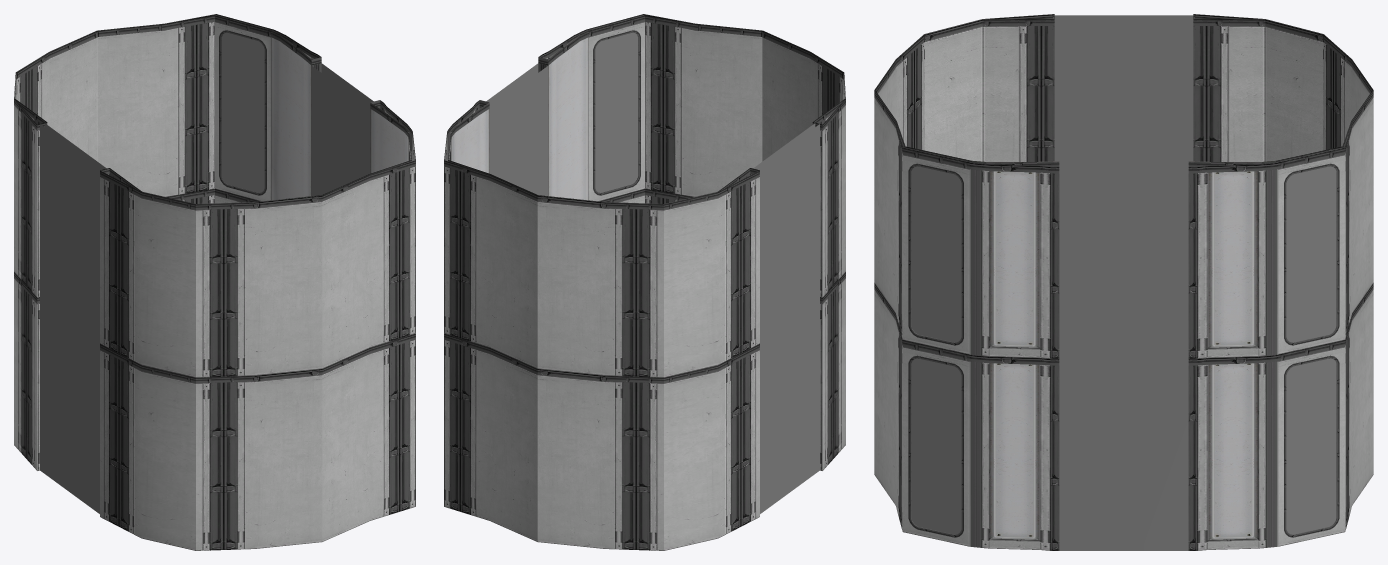
File: Pre_Elevator_entb01_LOW.FBX
The picture shows the model from 3 angles, left to right: view 1: azimuth 30°, elevation 25°; view 2: azimuth 150°, elevation 25°; view 3: azimuth 270°, elevation 25°; orthographic projection. The views are drawn at different scales.
Visible parts, largest first — view 1: Pre_Elevator_entb01_LOW; view 2: Pre_Elevator_entb01_LOW; view 3: Pre_Elevator_entb01_LOW.
Boxes of the visible parts, x1,y1,x2,y2 form: Pre_Elevator_entb01_LOW: (14,14,415,550); Pre_Elevator_entb01_LOW: (444,14,845,550); Pre_Elevator_entb01_LOW: (874,14,1373,550).
Size of the model in its own units: 6.82 by 8 by 9.43.
